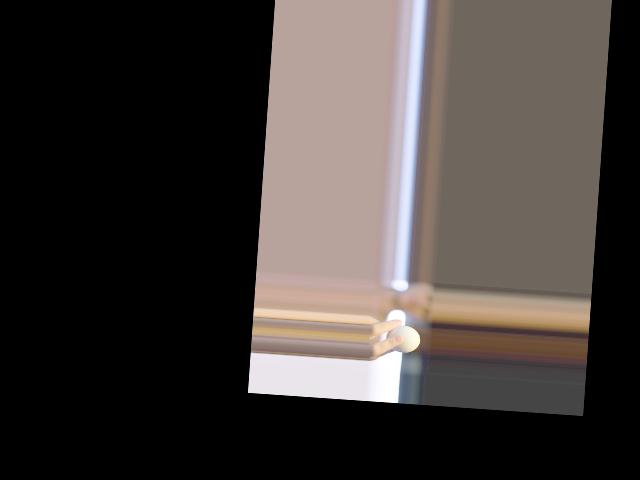egg: (384, 323, 420, 353)
